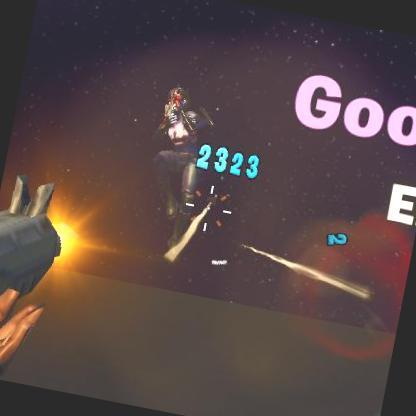person: (132, 80, 225, 235)
